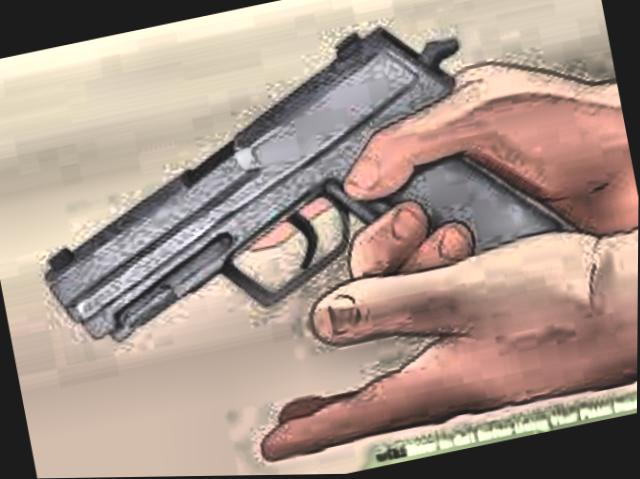pistol: (0, 0, 601, 373)
